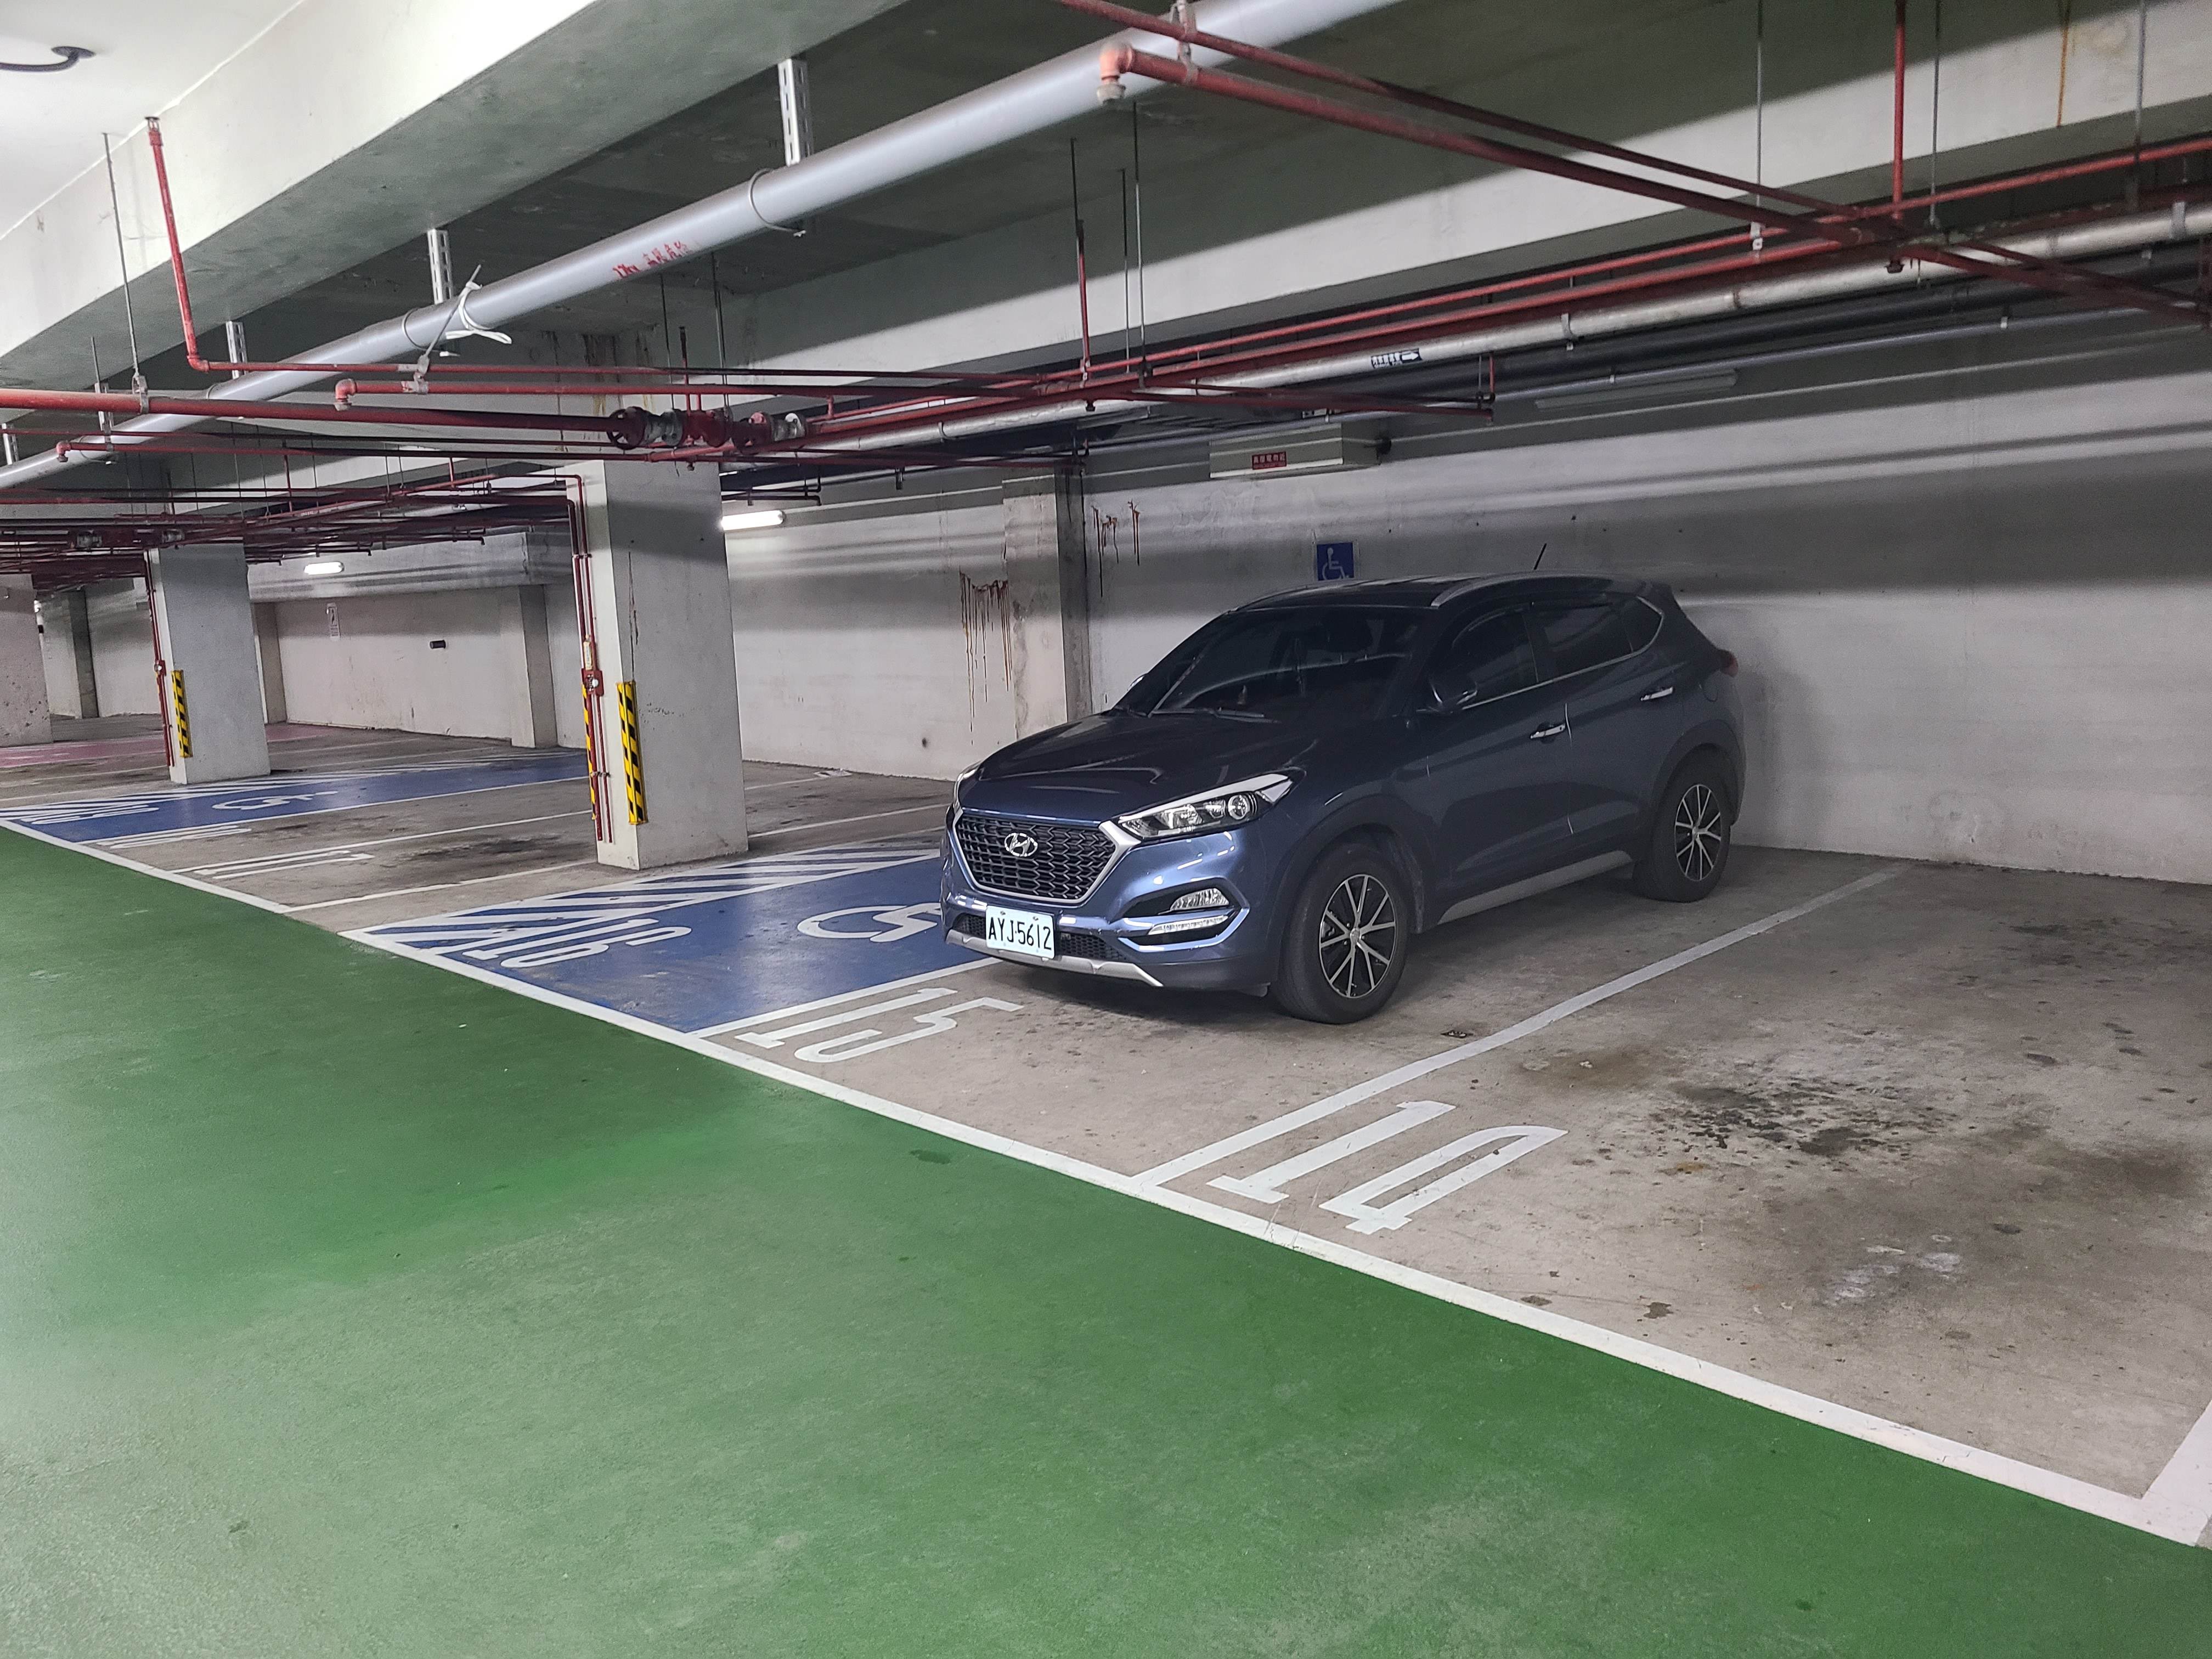car: (925, 561, 1791, 1023)
